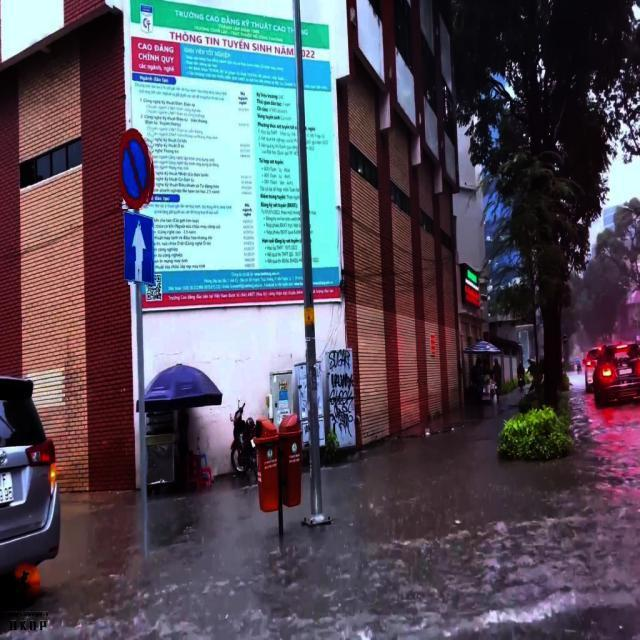131a-cam-do-xe: (118, 127, 155, 210)
407a-duong-mot-chieu: (124, 211, 154, 285)
